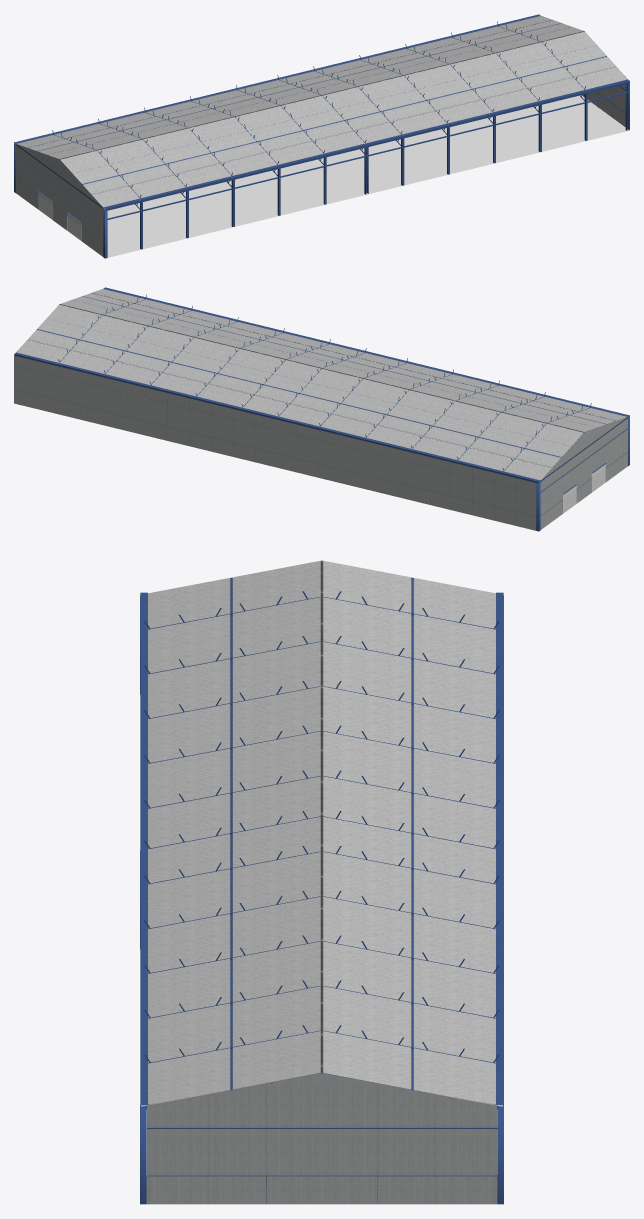
The model's file is Warehouse_300m2.fbx.
3 renders of one model, top to bottom at view 1: azimuth 30°, elevation 25°; view 2: azimuth 150°, elevation 25°; view 3: azimuth 270°, elevation 25°, orthographic. The views are drawn at different scales.
Visible parts, largest first — view 1: Ceiling, Floor, FrontWall, WallFrameLeft, BackWall; view 2: Ceiling, SideWall, FrontWall; view 3: Ceiling, BackWall, WallFrameLeft.
Boxes of the visible parts, x1=… form: Ceiling: x1=14, y1=14, x2=629, y2=211; Floor: x1=16, y1=95, x2=629, y2=257; FrontWall: x1=15, y1=143, x2=104, y2=256; WallFrameLeft: x1=103, y1=82, x2=629, y2=258; BackWall: x1=540, y1=15, x2=627, y2=126; Ceiling: x1=14, y1=287, x2=629, y2=482; SideWall: x1=14, y1=355, x2=536, y2=530; FrontWall: x1=539, y1=416, x2=628, y2=529; Ceiling: x1=140, y1=560, x2=503, y2=1109; BackWall: x1=141, y1=1072, x2=502, y2=1204; WallFrameLeft: x1=140, y1=596, x2=146, y2=1204.
Bounding box in the file's own units: 10011 × 1250 × 3000.
